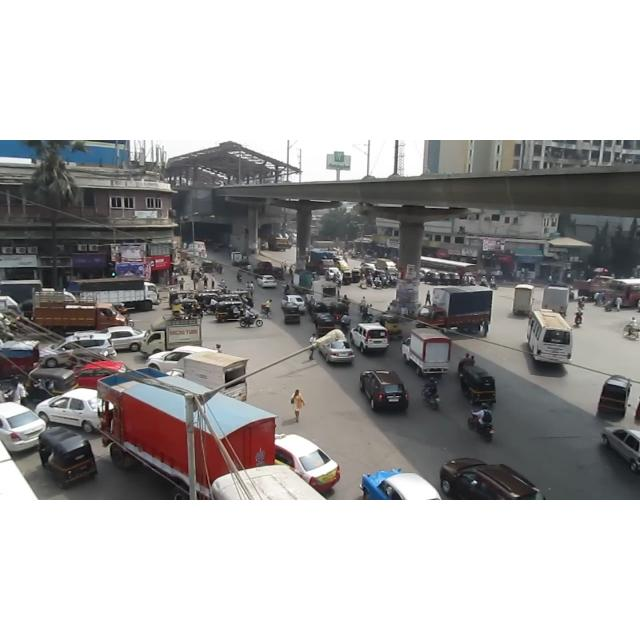auto: (43, 432, 101, 483), (594, 372, 636, 423), (459, 362, 501, 413), (314, 310, 342, 338), (215, 301, 251, 322), (282, 304, 306, 328)
car: (439, 458, 545, 500), (275, 434, 341, 494), (359, 468, 453, 500), (34, 388, 102, 432), (39, 332, 117, 368), (0, 401, 46, 453), (145, 345, 217, 373), (359, 370, 409, 410), (75, 326, 145, 352), (602, 427, 640, 473), (75, 360, 127, 388), (349, 322, 389, 354), (318, 339, 354, 363), (281, 294, 307, 314), (257, 275, 277, 289), (326, 267, 342, 281), (360, 261, 376, 271)
truck: (97, 368, 276, 500), (33, 286, 128, 330), (168, 351, 248, 401), (417, 286, 493, 332), (67, 277, 161, 311), (140, 315, 202, 355), (401, 328, 451, 376), (510, 280, 538, 323), (542, 284, 570, 316), (307, 279, 338, 305), (294, 270, 314, 294), (268, 235, 292, 251), (376, 258, 398, 274), (230, 251, 242, 267)
